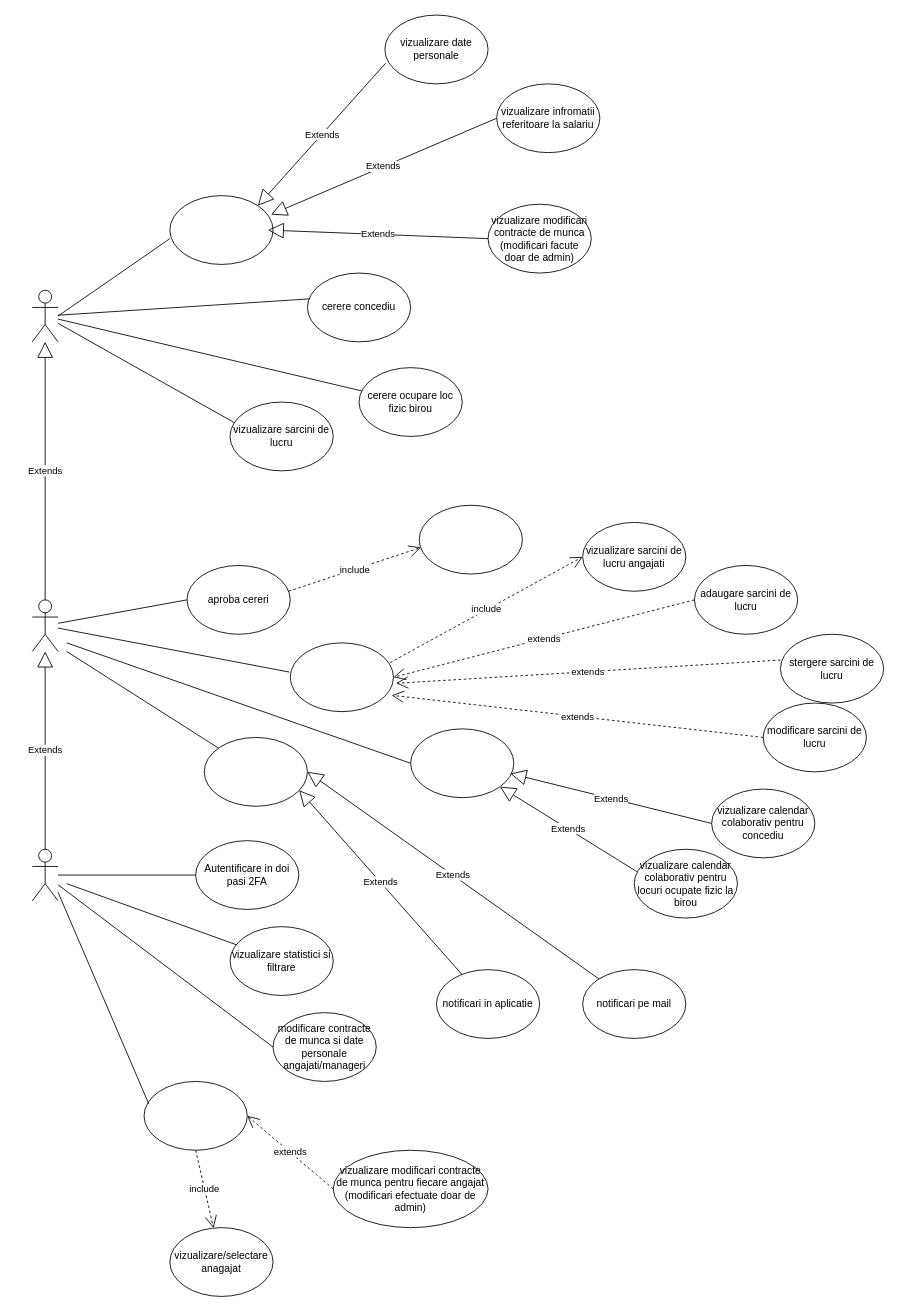
Image size: 899x1312. Some labels were removed from this diagram. The box of each missing label's shape, as (x1, y1, x2, y2) in pixels:
Administrator: (31, 848, 58, 901)
Angajat: (31, 289, 58, 342)
gestionare angajati/manageri: (143, 1081, 247, 1150)
gestionare sarcini de lucru: (289, 642, 393, 712)
Manager: (31, 599, 58, 651)
trimitere notfiicari: (203, 737, 307, 806)
vizualizare calendar colaborativ: (410, 728, 514, 798)
vizualizare cereri: (418, 504, 522, 574)
vizualizare date: (169, 195, 273, 264)
